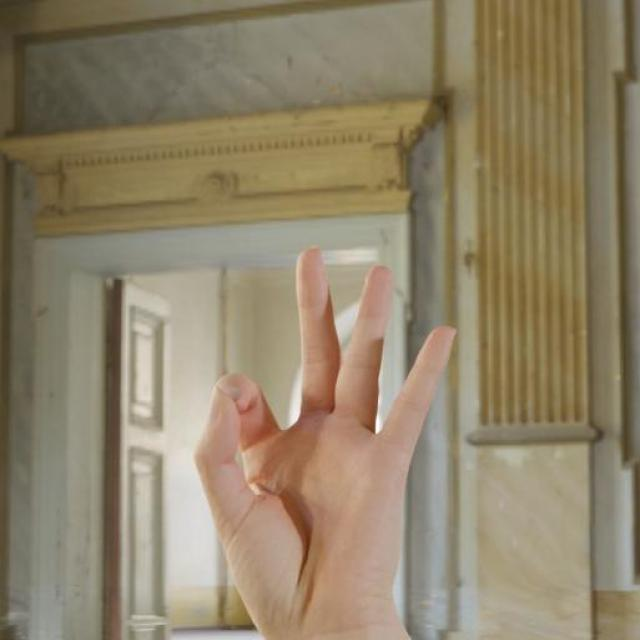F: (191, 244, 464, 636)
